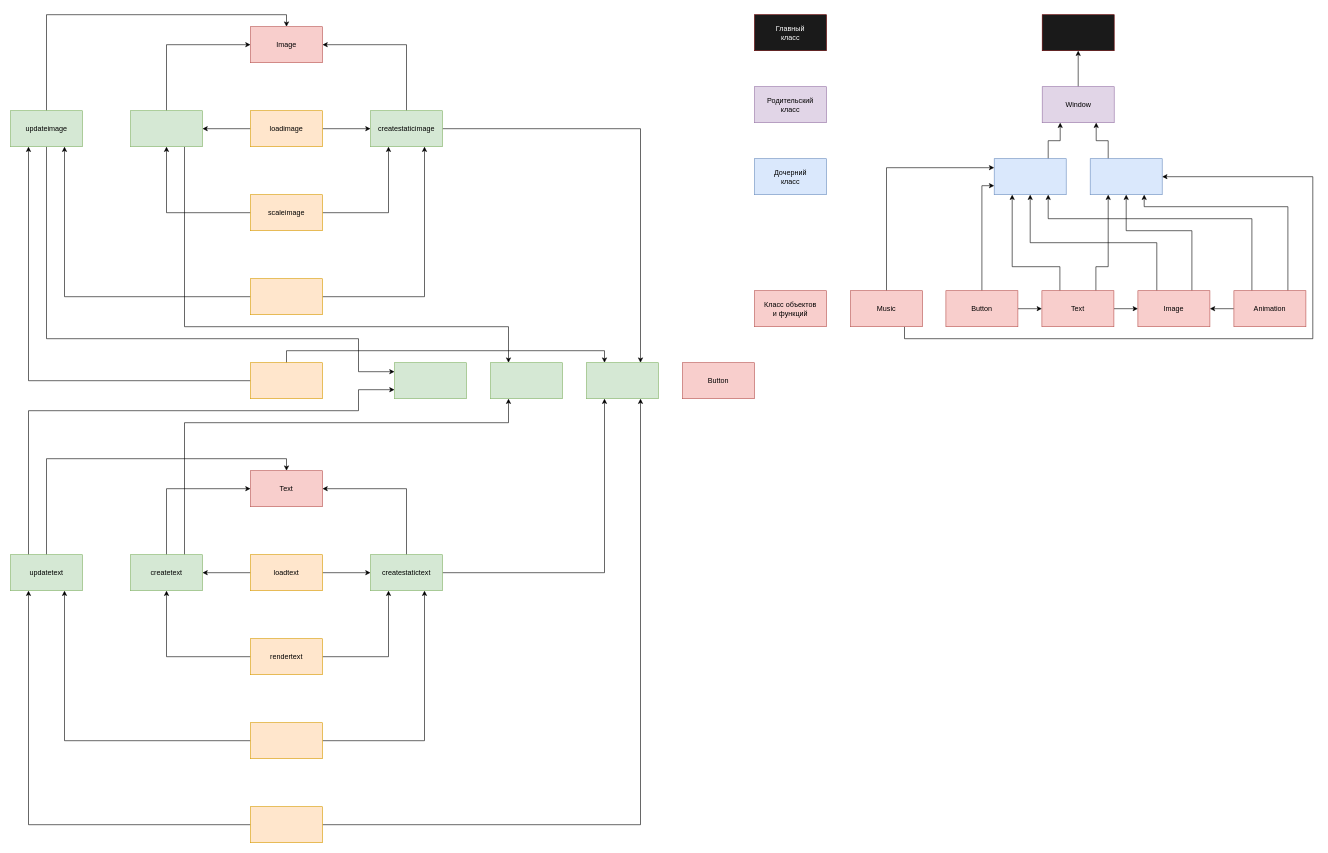
Some shapes in this 1328 by 853 pixel diagram are drawn without their labels. The shapes that lost their labels are listed below. From the top down, each one's centre as x and y in pixels, then its label:
At point (1078, 32): "ManageWindow".
At point (166, 128): "createimage".
At point (1030, 176): "MenuWindow".
At point (1126, 176): "GameWindow".
At point (286, 296): "changerectimage".
At point (286, 380): "blitimage".
At point (430, 380): "updatebutton".
At point (526, 380): "createbutton".
At point (622, 380): "createstaticbutton".
At point (286, 740): "changerecttext".
At point (286, 824): "blittext".
